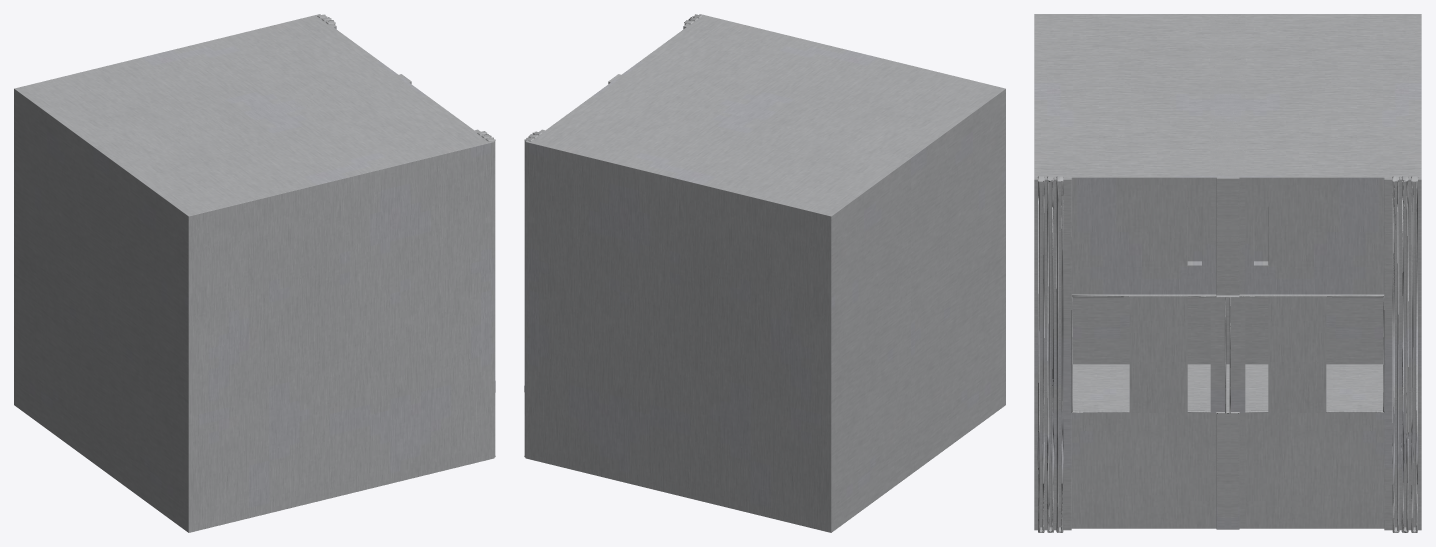
The model's file is holder-0000.glb.
3 renders of one model, left to right at view 1: azimuth 30°, elevation 25°; view 2: azimuth 150°, elevation 25°; view 3: azimuth 270°, elevation 25°, orthographic. The views are drawn at different scales.
Visible parts, largest first — view 1: HOLDER_0000; view 2: HOLDER_0000; view 3: HOLDER_0000.
Part boxes in pixels (left/top/right/bottom): HOLDER_0000: left=14, top=14, right=495, bottom=532; HOLDER_0000: left=524, top=14, right=1005, bottom=532; HOLDER_0000: left=1034, top=14, right=1421, bottom=532.
Size of the model in its own units: 3.19 by 3.14 by 3.12.
1 material, 1 textured.
